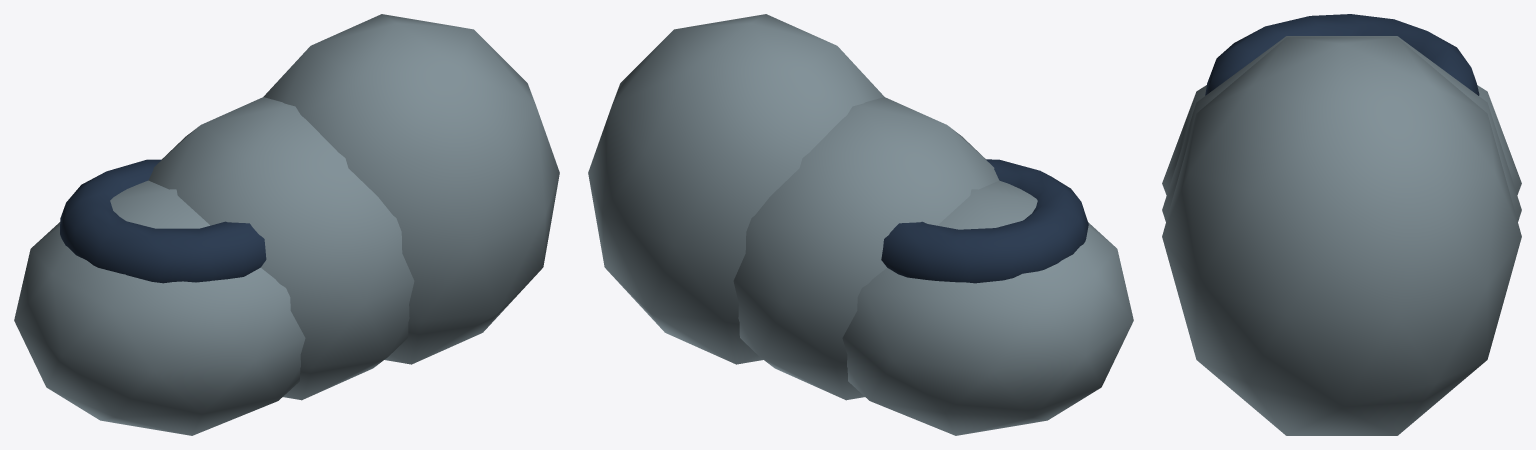
File: Geyser_vent_LOD1.glb
3 renders of one model, left to right at view 1: azimuth 30°, elevation 25°; view 2: azimuth 150°, elevation 25°; view 3: azimuth 270°, elevation 25°, orthographic. The views are drawn at different scales.
Visible parts, largest first — view 1: Rock.008, Rock.006, Rock.007, Vent; view 2: Rock.008, Rock.006, Rock.007, Vent; view 3: Rock.008, Vent, Rock.007, Rock.006.
Part boxes in pixels (bbox=[...]): Rock.008: bbox=[263, 14, 559, 364]; Rock.006: bbox=[14, 180, 305, 435]; Rock.007: bbox=[148, 97, 414, 400]; Vent: bbox=[60, 159, 266, 283]; Rock.008: bbox=[588, 14, 884, 364]; Rock.006: bbox=[842, 180, 1133, 435]; Rock.007: bbox=[733, 97, 999, 400]; Vent: bbox=[881, 159, 1088, 283]; Rock.008: bbox=[1162, 37, 1521, 435]; Vent: bbox=[1205, 14, 1479, 95]; Rock.007: bbox=[1162, 36, 1521, 221]; Rock.006: bbox=[1162, 85, 1521, 194].
Bounding box in the file's own units: 2.04 × 1.34 × 1.1.
